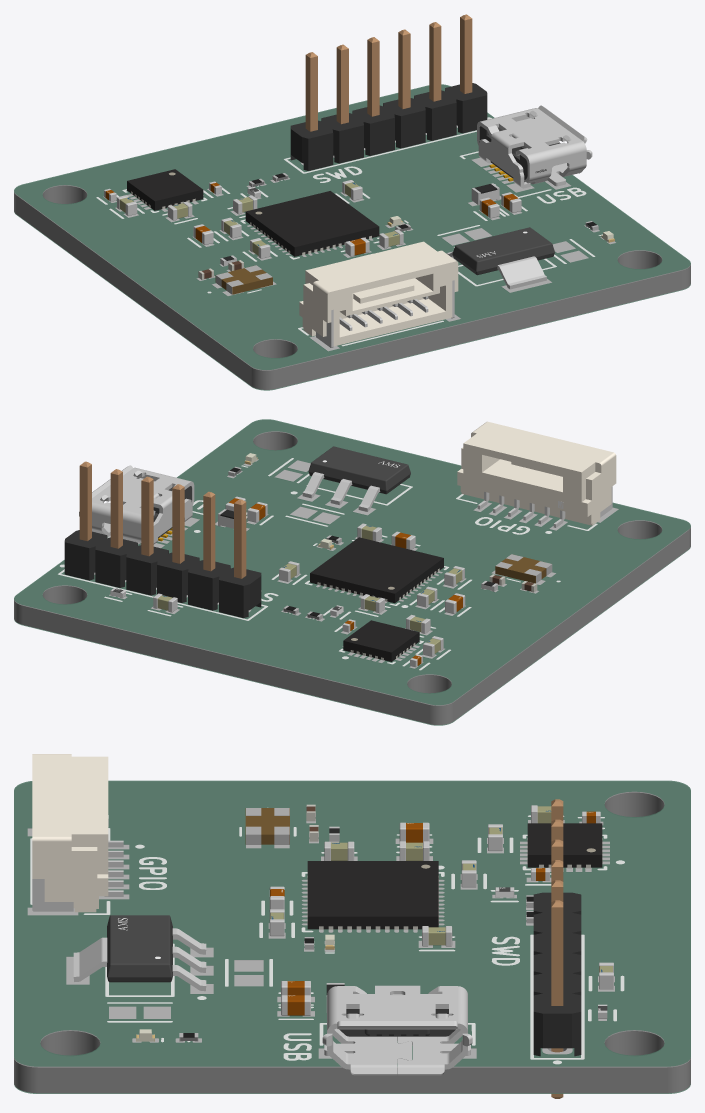
The model's file is stm32-board.glb.
3 views of the same model, one above another, from view 1: azimuth 30°, elevation 25°; view 2: azimuth 150°, elevation 25°; view 3: azimuth 270°, elevation 25° (orthographic). The views are drawn at different scales.
Parts seen in each view (by area): view 1: =>[0:1:1:26], =>[0:1:1:25], SM06B-GHS-TB:1, J2, 473460001:1, 6130xx11121_PIN (×6), U2, 1:1 (×2), =>[0:1:1:23], =>[0:1:1:24], U3, =>[0:1:1:4] (+1 smaller); view 2: =>[0:1:1:26], =>[0:1:1:25], SM06B-GHS-TB:1, J2, 6130xx11121_PIN (×6), U2, 473460001:1, 1:1 (×2), =>[0:1:1:23], =>[0:1:1:24], U3, Y1 (+1 smaller); view 3: =>[0:1:1:26], =>[0:1:1:25], 473460001:1, SM06B-GHS-TB:1, U2, J2, =>[0:1:1:23], =>[0:1:1:24], 1:1 (×2), U3, =>[0:1:1:4], Y1 (+3 smaller).
Part boxes in pixels (left/top/right/bottom): =>[0:1:1:26]: left=14, top=85, right=690, bottom=389; =>[0:1:1:25]: left=14, top=84, right=690, bottom=390; SM06B-GHS-TB:1: left=299, top=241, right=458, bottom=346; J2: left=290, top=83, right=487, bottom=170; 473460001:1: left=477, top=105, right=592, bottom=188; 6130xx11121_PIN (×6): left=305, top=14, right=472, bottom=131; U2: left=245, top=191, right=379, bottom=256; 1:1 (×2): left=339, top=227, right=554, bottom=330; =>[0:1:1:23]: left=103, top=125, right=615, bottom=351; =>[0:1:1:24]: left=96, top=117, right=602, bottom=346; U3: left=127, top=169, right=203, bottom=210; =>[0:1:1:4]: left=446, top=251, right=546, bottom=289; =>[0:1:1:26]: left=14, top=420, right=690, bottom=724; =>[0:1:1:25]: left=14, top=419, right=690, bottom=725; SM06B-GHS-TB:1: left=457, top=421, right=616, bottom=525; J2: left=64, top=530, right=261, bottom=617; 6130xx11121_PIN (×6): left=79, top=461, right=246, bottom=578; U2: left=310, top=537, right=443, bottom=603; 473460001:1: left=79, top=465, right=194, bottom=544; 1:1 (×2): left=308, top=446, right=565, bottom=527; =>[0:1:1:23]: left=94, top=459, right=618, bottom=668; =>[0:1:1:24]: left=58, top=458, right=597, bottom=670; U3: left=343, top=620, right=419, bottom=661; Y1: left=495, top=554, right=552, bottom=583; =>[0:1:1:26]: left=14, top=782, right=690, bottom=1093; =>[0:1:1:25]: left=14, top=780, right=690, bottom=1093; 473460001:1: left=322, top=985, right=472, bottom=1075; SM06B-GHS-TB:1: left=32, top=754, right=108, bottom=912; U2: left=307, top=861, right=438, bottom=929; J2: left=533, top=892, right=581, bottom=1056; =>[0:1:1:23]: left=27, top=813, right=614, bottom=1058; =>[0:1:1:24]: left=30, top=807, right=624, bottom=1064; 1:1 (×2): left=104, top=840, right=172, bottom=982; U3: left=527, top=823, right=602, bottom=868; =>[0:1:1:4]: left=73, top=928, right=206, bottom=991; Y1: left=245, top=808, right=289, bottom=844.
Size of what is drawn, in the model's own units: 0.0369 by 0.0115 by 0.036.
